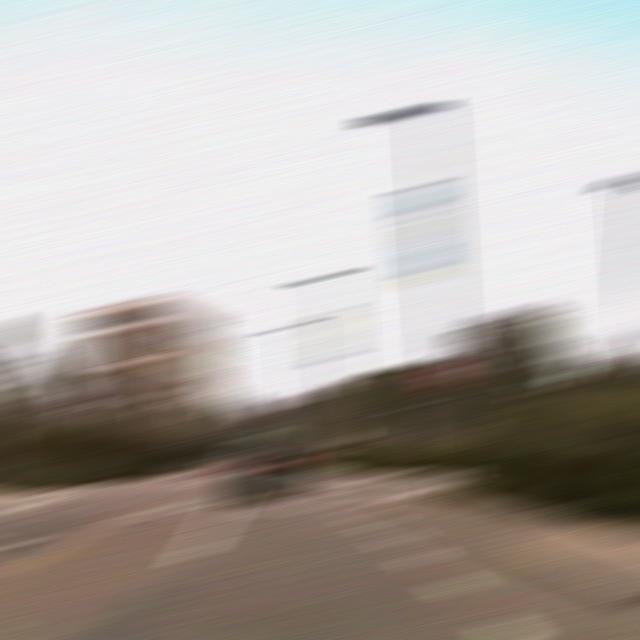stop_sign: (422, 361, 467, 391)
